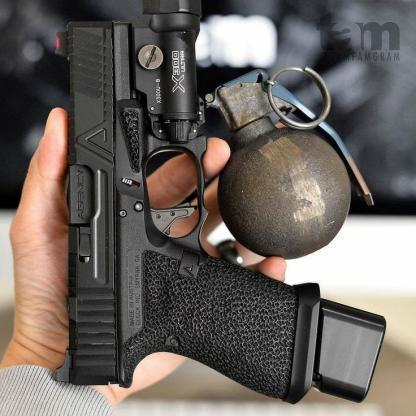Grenade: (203, 66, 376, 261)
Pistol: (55, 1, 387, 407)
